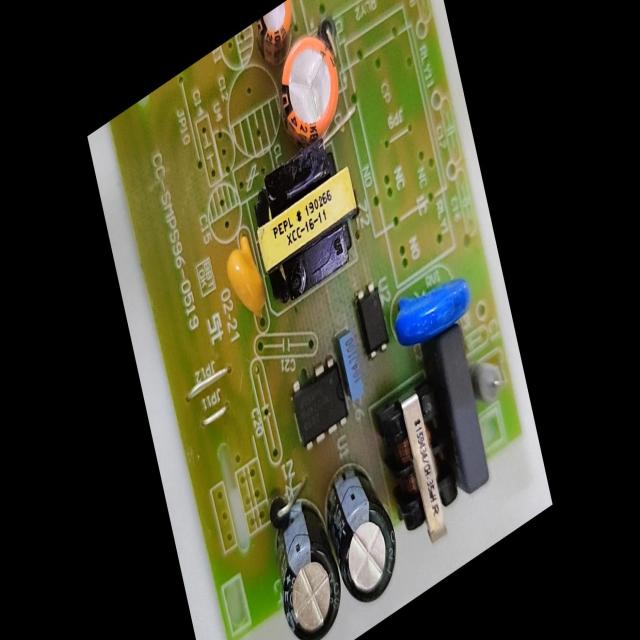Cap1: (264, 12, 353, 163)
Cap2: (250, 0, 304, 73)
Cap3: (316, 442, 408, 623)
Cap4: (261, 478, 348, 640)
MOSFET: (283, 346, 353, 462)
Mov: (384, 247, 478, 365)
Resistor: (468, 344, 509, 416)
Transformer: (242, 121, 372, 323), (378, 373, 464, 563)
